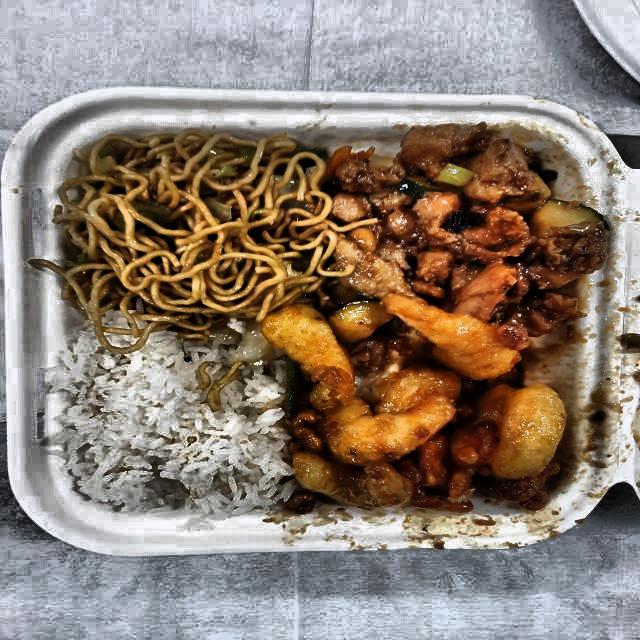Food: (268, 290, 594, 526), (335, 127, 605, 347), (59, 128, 329, 326), (54, 340, 282, 514)
